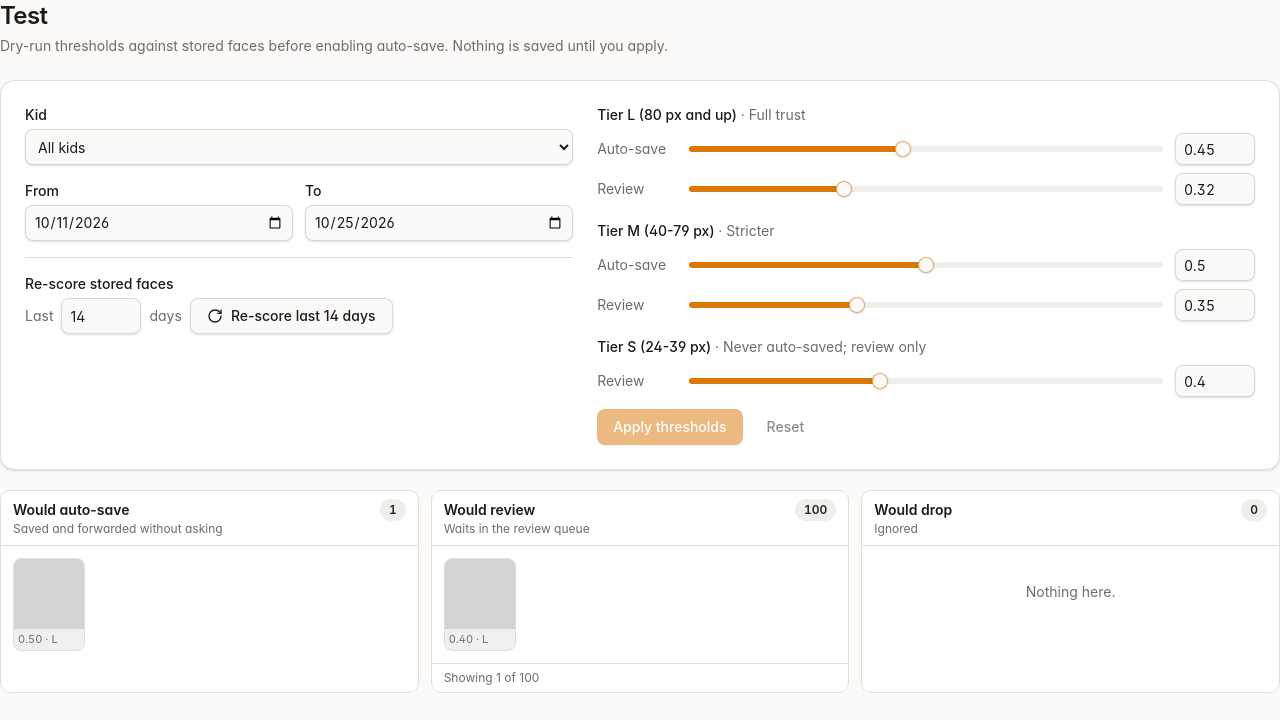
Test: TestPage › shows server validation errors inline
expect the element "Would review" is shown: met, box top-left (431, 490), bottom-right (849, 693)
Replace the text in the number field named "Tier L review" with "0.4": [1215, 189] box top-left (1175, 173), bottom-right (1255, 205)
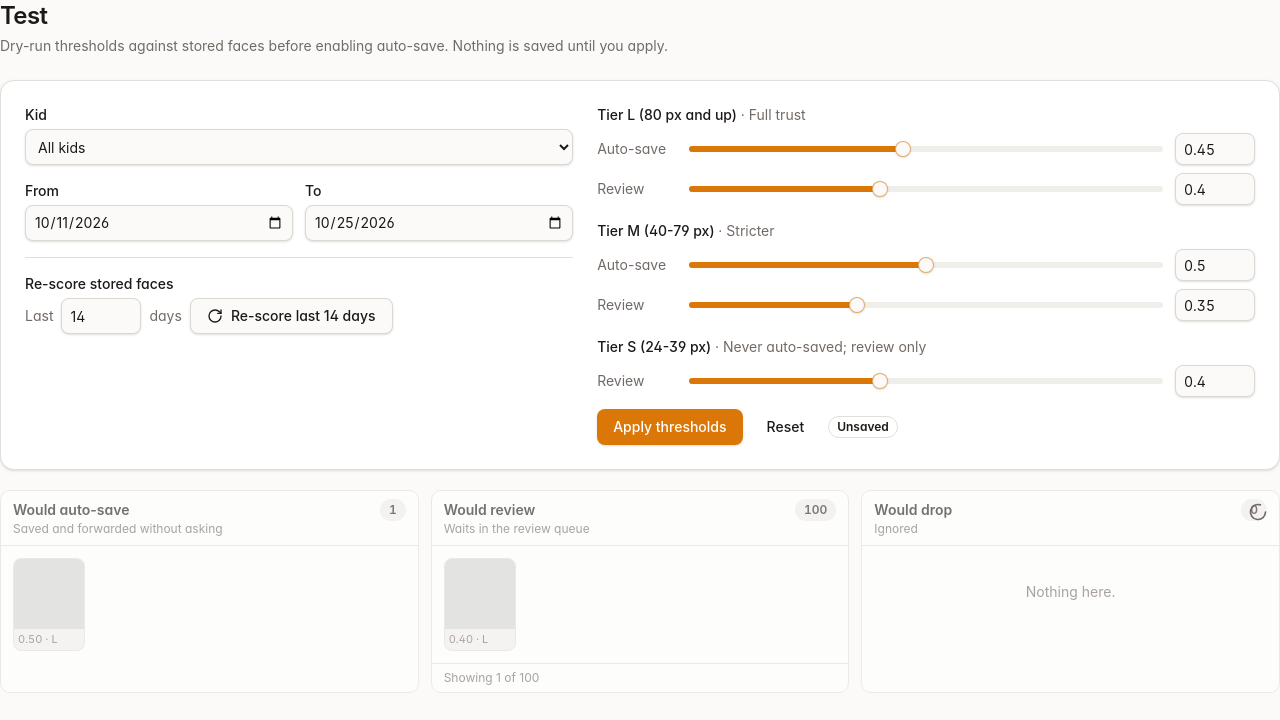
Click the button "Apply thresholds": [670, 427] box top-left (597, 409), bottom-right (743, 445)
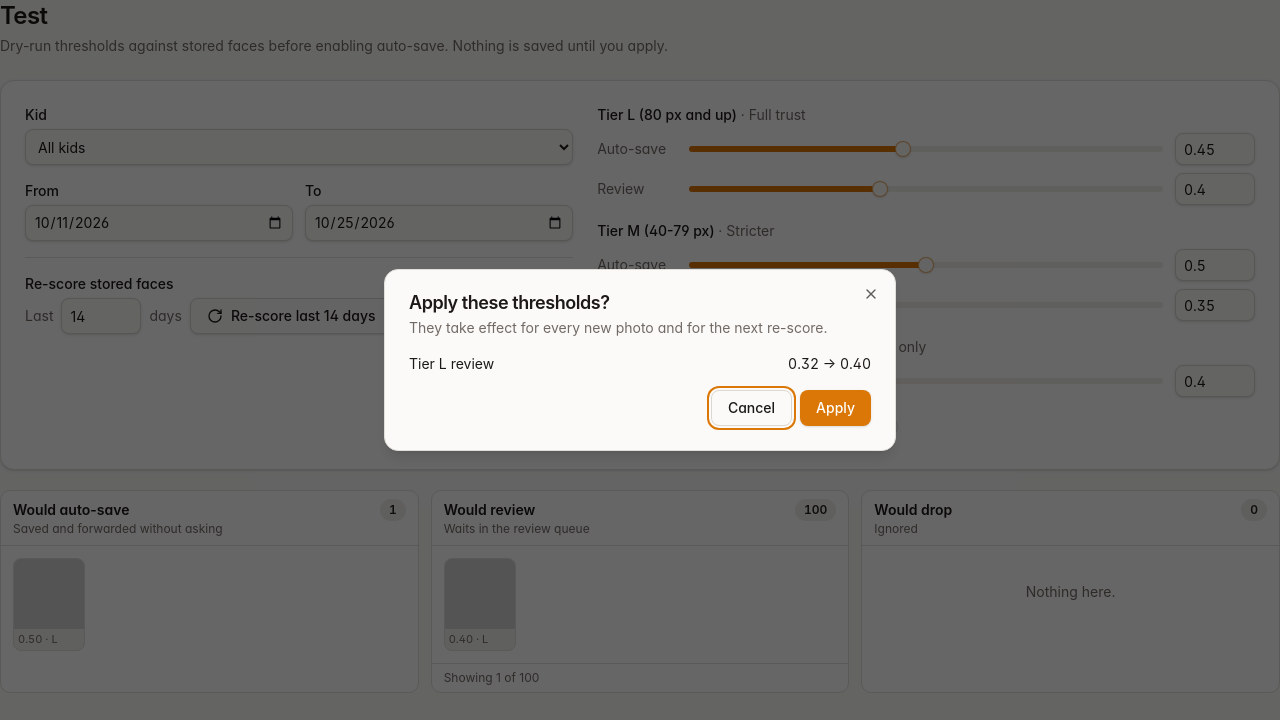
Click the button "Apply": [836, 408] box top-left (800, 390), bottom-right (871, 426)
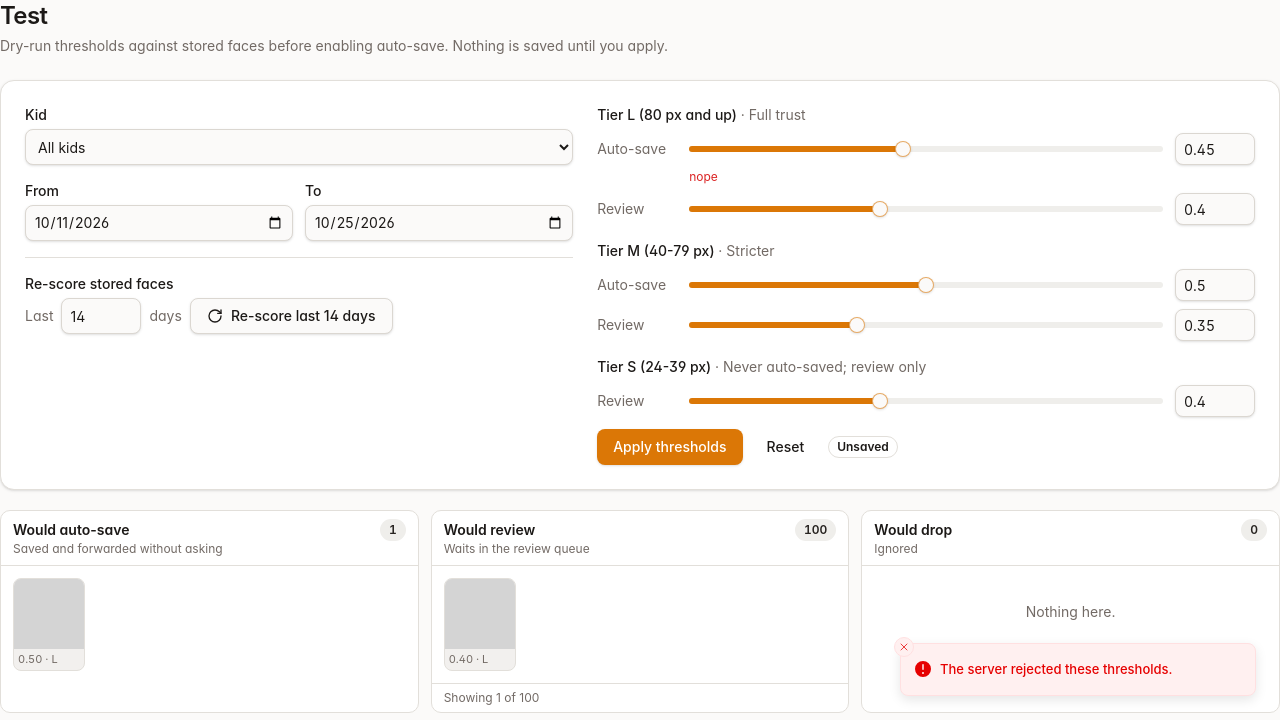
expect the text "nope" is shown: met, box top-left (689, 169), bottom-right (718, 184)
